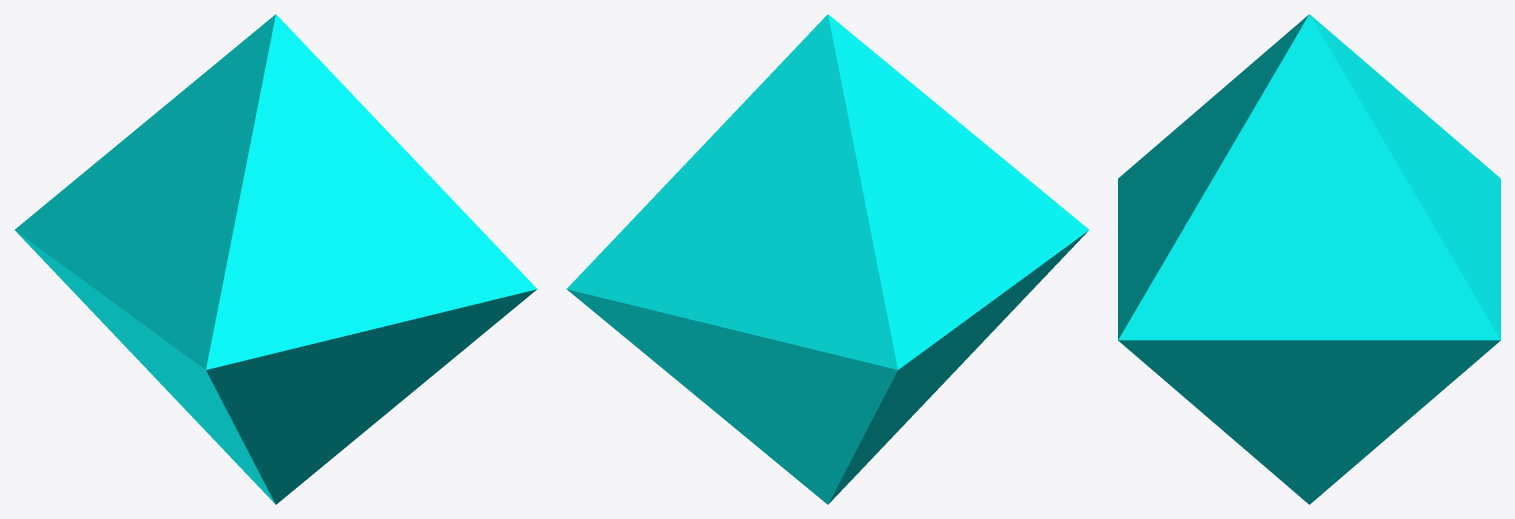
The model's file is figura07.fbx.
The picture shows the model from 3 angles, left to right: view 1: azimuth 30°, elevation 25°; view 2: azimuth 150°, elevation 25°; view 3: azimuth 270°, elevation 25°; orthographic projection.
Visible parts, largest first — view 1: Model; view 2: Model; view 3: Model.
Part boxes in pixels (<box>): Model: <box>15,14,537,504</box>; Model: <box>566,14,1088,504</box>; Model: <box>1118,14,1500,504</box>.
Size of the model in its own units: 2 by 2.83 by 2.
